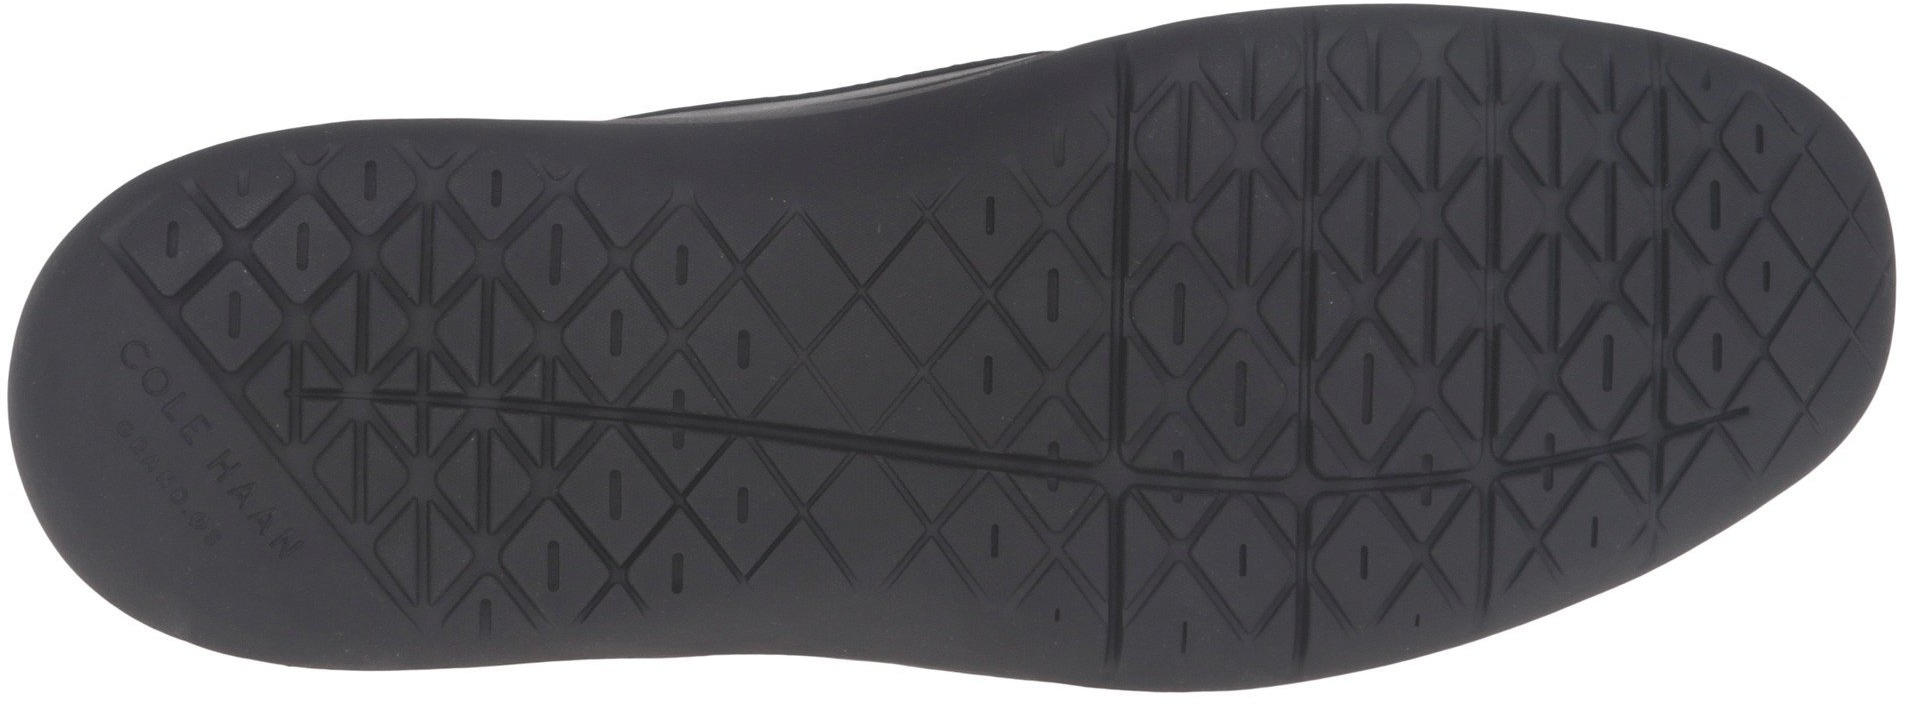quad: (747, 159, 980, 385)
ribbon: (1061, 421, 1173, 528), (1252, 435, 1362, 538)
text: (155, 479, 319, 622), (76, 334, 212, 470)
triangle: (1325, 40, 1653, 342), (304, 287, 548, 526)
